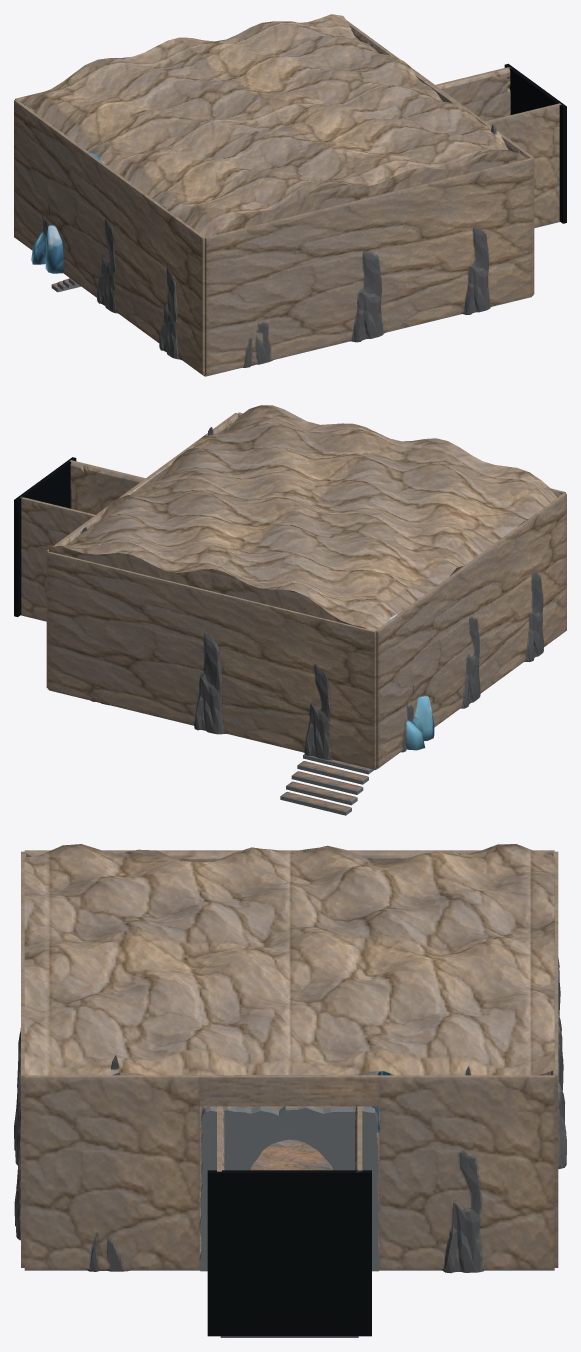
File: room.glb
The picture shows the model from 3 angles, top to bottom: view 1: azimuth 30°, elevation 25°; view 2: azimuth 150°, elevation 25°; view 3: azimuth 270°, elevation 25°; orthographic projection. The views are drawn at different scales.
Parts seen in each view (by area): view 1: GLACIER-ROOM; view 2: GLACIER-ROOM; view 3: GLACIER-ROOM.
Boxes of the visible parts, box(x1,y1,x2,y2) form: GLACIER-ROOM: box(14, 14, 566, 376); GLACIER-ROOM: box(14, 405, 566, 815); GLACIER-ROOM: box(14, 844, 566, 1337).
Bounding box in the file's own units: 13.56 × 6.41 × 10.43.
1 material, 1 textured.
